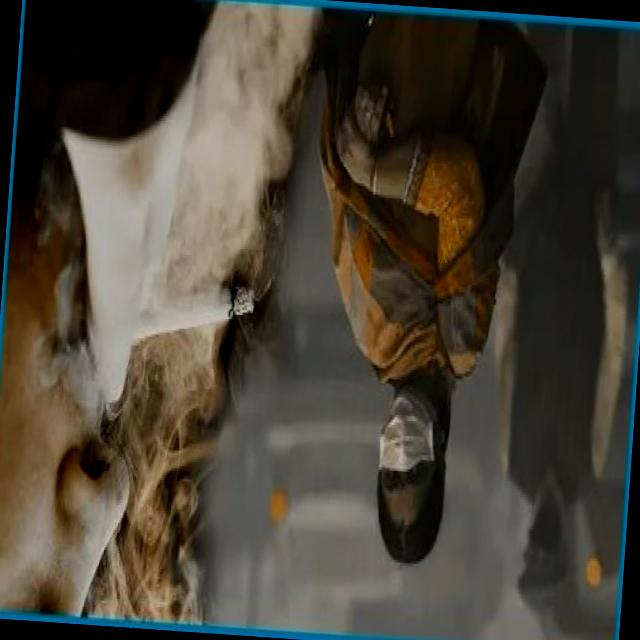smoke: (124, 273, 263, 364)
